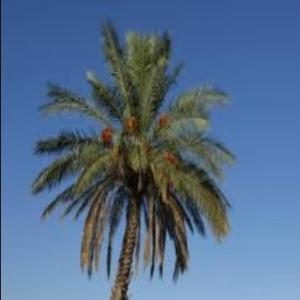palm tree: (30, 15, 235, 299)
